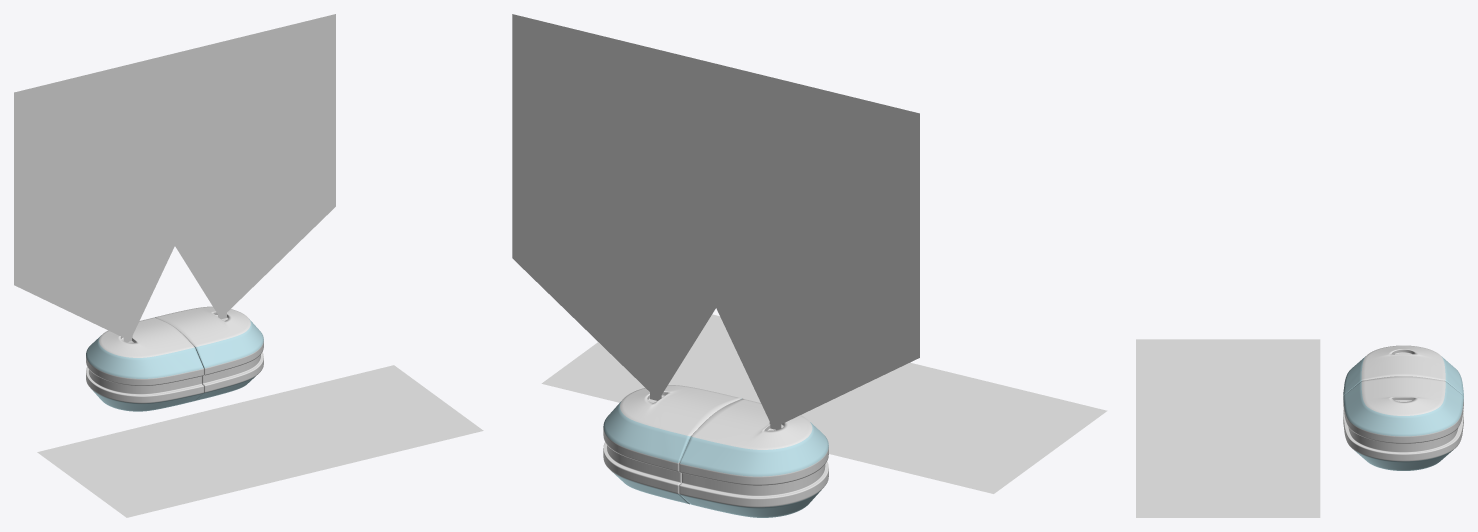
File: hol-pc-keyboard.fbx
The picture shows the model from 3 angles, left to right: view 1: azimuth 30°, elevation 25°; view 2: azimuth 150°, elevation 25°; view 3: azimuth 270°, elevation 25°; orthographic projection. The views are drawn at different scales.
Visible parts, largest first — view 1: Plane.001, Keyboard-ref2, Circle; view 2: Plane.001, Keyboard-ref2, Circle; view 3: Keyboard-ref2, Circle.
Boxes of the visible parts, x1,y1,x2,y2 form: Plane.001: [14, 14, 335, 342]; Keyboard-ref2: [37, 365, 483, 517]; Circle: [86, 306, 263, 411]; Plane.001: [512, 14, 919, 429]; Keyboard-ref2: [541, 314, 1107, 493]; Circle: [603, 385, 828, 517]; Keyboard-ref2: [1136, 339, 1320, 517]; Circle: [1343, 345, 1463, 470].
Size of the model in its own units: 729 by 659 by 565.
